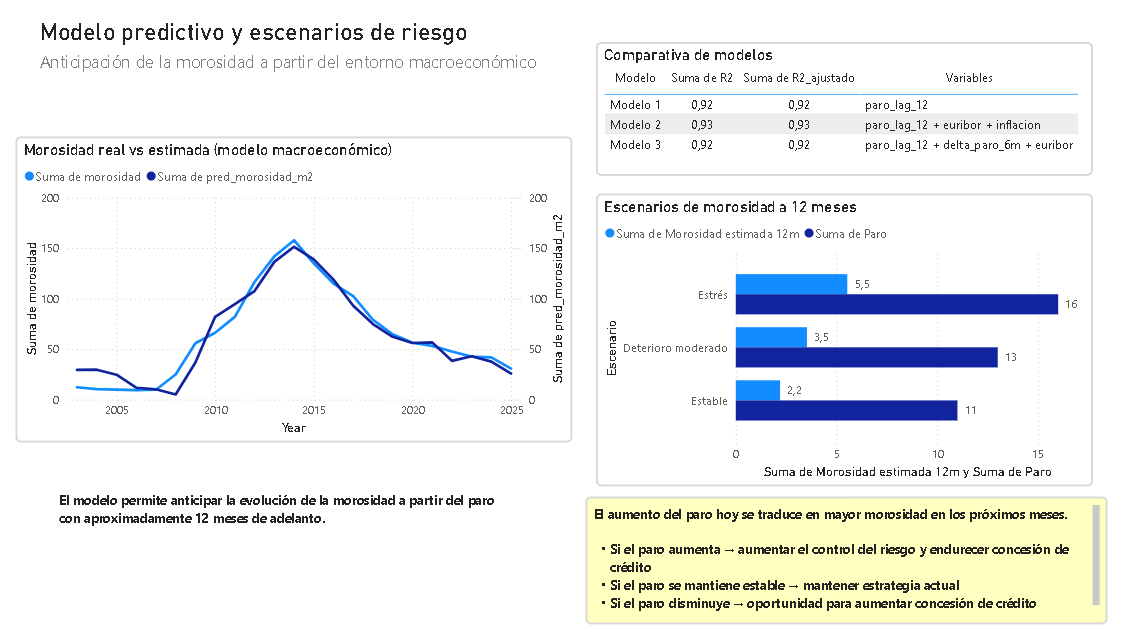

The dashboard page shown, as its layout file describes it:
{"tool":"powerbi","page":{"name":"decisiones","canvas":[1280,720],"ordinal":2},"visuals":[{"type":"lineChart","title":"Morosidad real vs estimada (modelo macroeconómico)","fields":{"Category":["dashboard_banca.fecha.Variación.Date Hierarchy.Year","dashboard_banca.fecha.Variación.Date Hierarchy.Quarter","dashboard_banca.fecha.Variación.Date Hierarchy.Month","dashboard_banca.fecha.Variación.Date Hierarchy.Day"],"Y":["Sum(dashboard_banca.morosidad)"],"Y2":["Sum(dashboard_banca.pred_morosidad_m2)"]},"box":[21.7,155,618.3,340],"z":0},{"type":"tableEx","title":"Comparativa de modelos","fields":{"Values":["modelos_resumen.Modelo","Sum(modelos_resumen.R2)","Sum(modelos_resumen.R2_ajustado)","modelos_resumen.Variables"]},"box":[666.7,50,551.7,148.3],"z":1000},{"type":"clusteredBarChart","title":"Escenarios de morosidad a 12 meses","fields":{"Category":["escenarios_12m.Escenario"],"Y":["Sum(escenarios_12m.Morosidad estimada 12m)","Sum(escenarios_12m.Paro)"]},"box":[666.7,218.3,551.7,325],"z":2000},{"type":"textbox","title":"Modelo predictivo y escenarios de riesgo","box":[43.3,23.3,596.7,86.7],"z":2001},{"type":"textbox","box":[655,555,580,141.7],"z":2002},{"type":"textbox","box":[65,543.3,496.7,73.3],"z":2003}]}

Visuals, with their boxes in screenshot pixels (x1, y1, x2, y2), scaled from the page's 1280x720 canvas onto the 1141x640 screenshot:
"Morosidad real vs estimada (modelo macroeconómico)" lineChart: (19,138,570,440)
"Comparativa de modelos" tableEx: (594,44,1086,176)
"Escenarios de morosidad a 12 meses" clusteredBarChart: (594,194,1086,483)
"Modelo predictivo y escenarios de riesgo" textbox: (39,21,570,98)
textbox: (584,493,1101,619)
textbox: (58,483,501,548)
